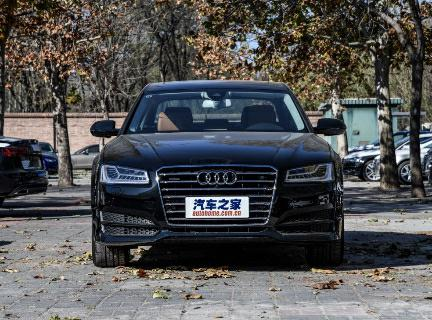奥迪-A8: (84, 78, 352, 274)
